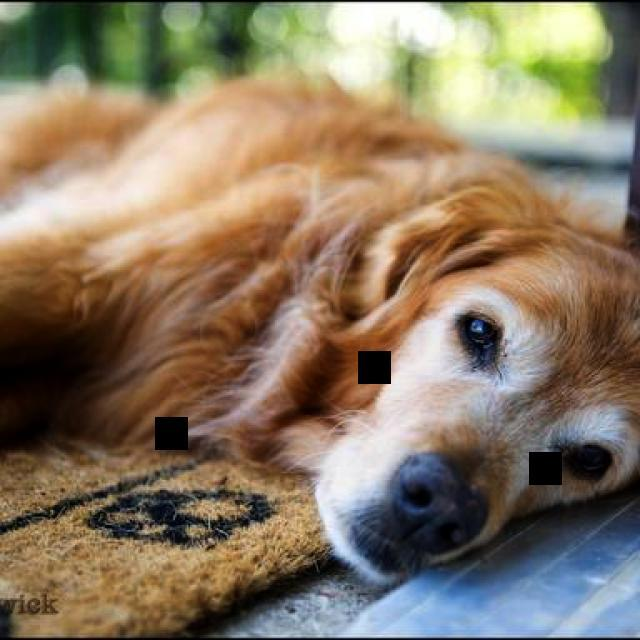adult_dog: (1, 73, 640, 586)
